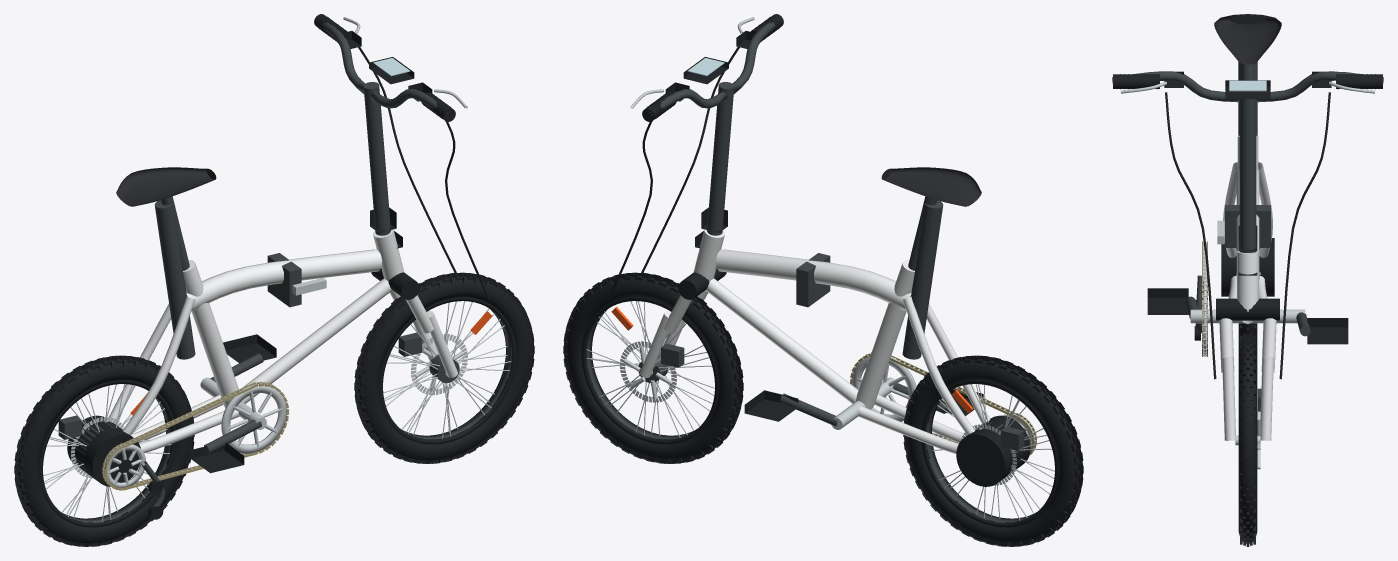
Rendered from fiido-d4s.glb.
The picture shows the model from 3 angles, left to right: view 1: azimuth 30°, elevation 25°; view 2: azimuth 150°, elevation 25°; view 3: azimuth 270°, elevation 25°; orthographic projection. The views are drawn at different scales.
Parts seen in each view (by area): view 1: Chassis | white, FrontWheel | rubber, RearWheel | rubber, Cockpit | graphite, Drive | steel, FrontWheel | steel, BatteryMount | graphite, Bodywork | seat, MotorMount | black, Drive | black, FrontWheel | black, RearWheel | black (+10 smaller); view 2: Chassis | white, FrontWheel | rubber, RearWheel | rubber, Cockpit | graphite, FrontWheel | steel, MotorMount | black, BatteryMount | graphite, Bodywork | seat, FrontWheel | black, RearWheel | black, Drive | steel, RearWheel | steel (+10 smaller); view 3: Cockpit | graphite, FrontWheel | rubber, Chassis | white, Fork | white, Cockpit | rubber, Bodywork | seat, Drive | black, Cockpit | black, Chassis | graphite, Fork | black, MotorMount | black, Drive | steel (+3 smaller).
Part boxes in pixels (x1,y1,x2,y2): Chassis | white: (109, 229, 404, 453); FrontWheel | rubber: (354, 272, 534, 463); RearWheel | rubber: (14, 355, 194, 546); Cockpit | graphite: (322, 22, 449, 235); Drive | steel: (103, 377, 286, 487); FrontWheel | steel: (383, 301, 511, 438); BatteryMount | graphite: (154, 200, 195, 359); Bodywork | seat: (116, 167, 216, 206); MotorMount | black: (67, 415, 140, 486); Drive | black: (148, 334, 276, 519); FrontWheel | black: (379, 297, 516, 444); RearWheel | black: (39, 380, 176, 527); Chassis | white: (693, 229, 990, 453); FrontWheel | rubber: (563, 272, 743, 463); RearWheel | rubber: (903, 355, 1083, 546); Cockpit | graphite: (648, 22, 775, 235); FrontWheel | steel: (586, 301, 714, 437); MotorMount | black: (956, 415, 1030, 486); BatteryMount | graphite: (902, 200, 943, 359); Bodywork | seat: (881, 167, 981, 206); FrontWheel | black: (581, 297, 718, 444); RearWheel | black: (921, 380, 1058, 527); Drive | steel: (831, 354, 1036, 452); RearWheel | steel: (932, 384, 1054, 520); Cockpit | graphite: (1112, 71, 1383, 252); FrontWheel | rubber: (1238, 334, 1257, 546); Chassis | white: (1223, 135, 1272, 323); Fork | white: (1219, 318, 1276, 440); Cockpit | rubber: (1113, 74, 1382, 379); Bodywork | seat: (1214, 14, 1281, 64); Drive | black: (1147, 288, 1348, 344); Cockpit | black: (1120, 71, 1375, 251); Chassis | graphite: (1225, 64, 1270, 247); Fork | black: (1216, 298, 1279, 320); MotorMount | black: (1221, 238, 1274, 296); Drive | steel: (1190, 242, 1305, 356).
Bounding box in the file's own units: 1.52 × 1.16 × 0.6634.
